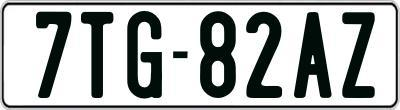2: (243, 12, 279, 99)
7: (36, 11, 76, 97)
8: (197, 10, 235, 100)
A: (291, 10, 329, 97)
G: (126, 9, 166, 100)
T: (80, 10, 117, 97)
Z: (339, 11, 375, 103)
